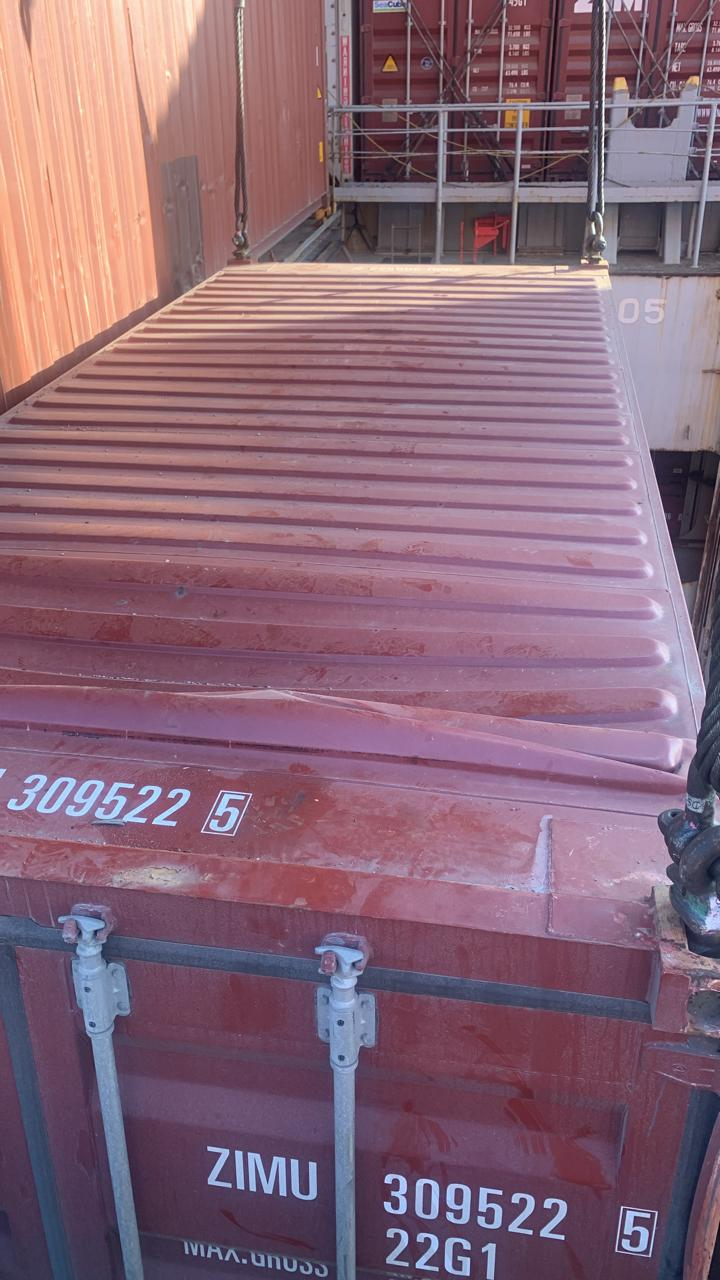moderate: (20, 591, 657, 792)
